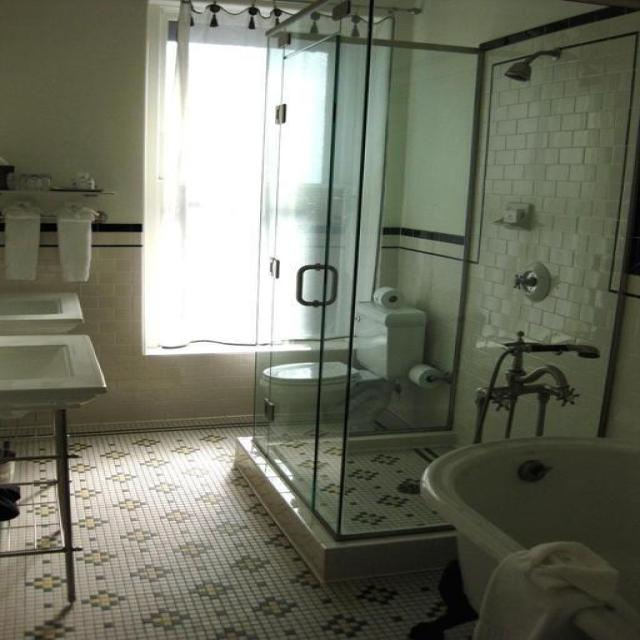indoor-plant: (1, 0, 638, 638)
rugs: (248, 429, 458, 541)
